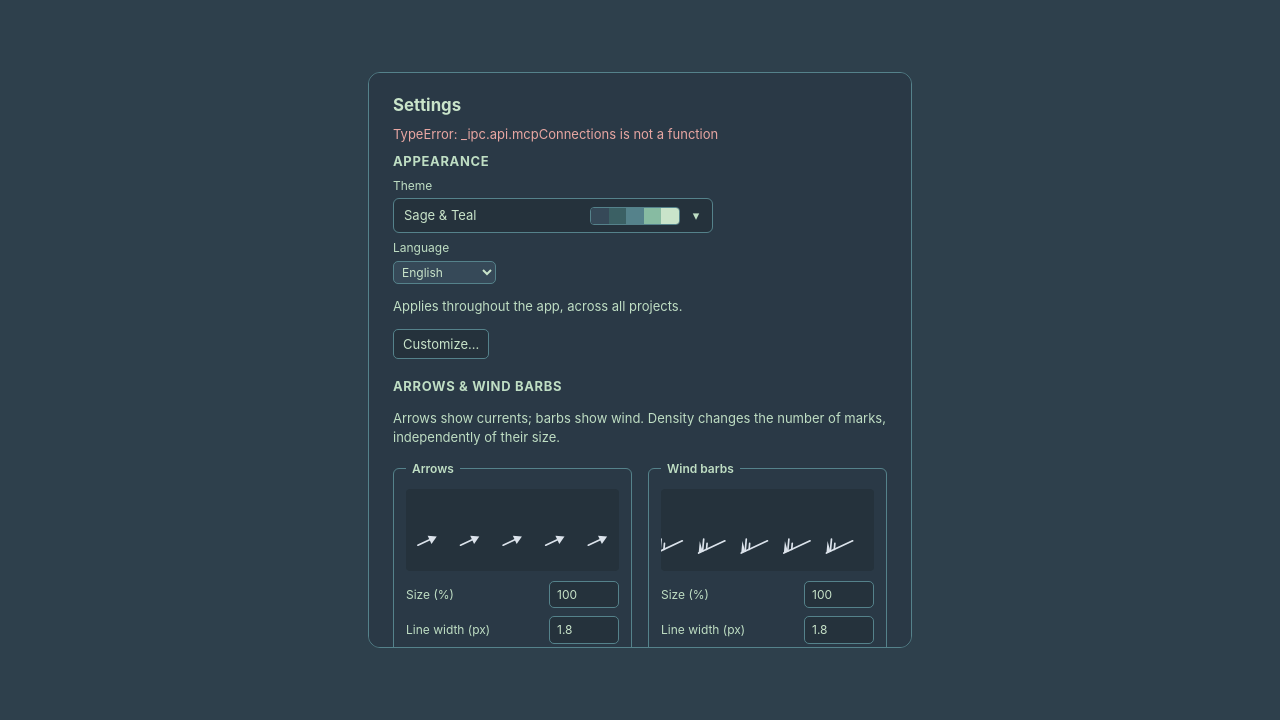
Test: shows a theme save failure without applying the unsaved choice
Click the dropdown with class "theme-trigger" at (440, 215), box [393,198,713,233]
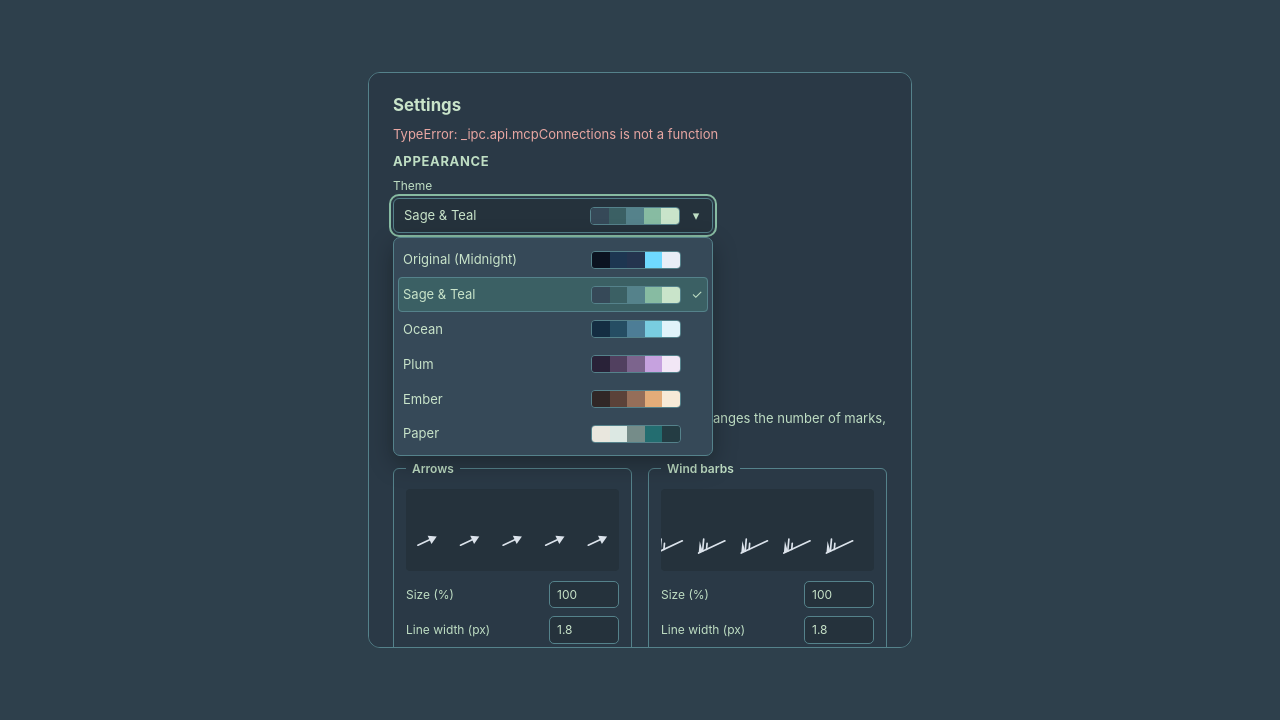
Click the option with class "theme-option" showing "Paper" at (421, 433), box [403,425,681,443]
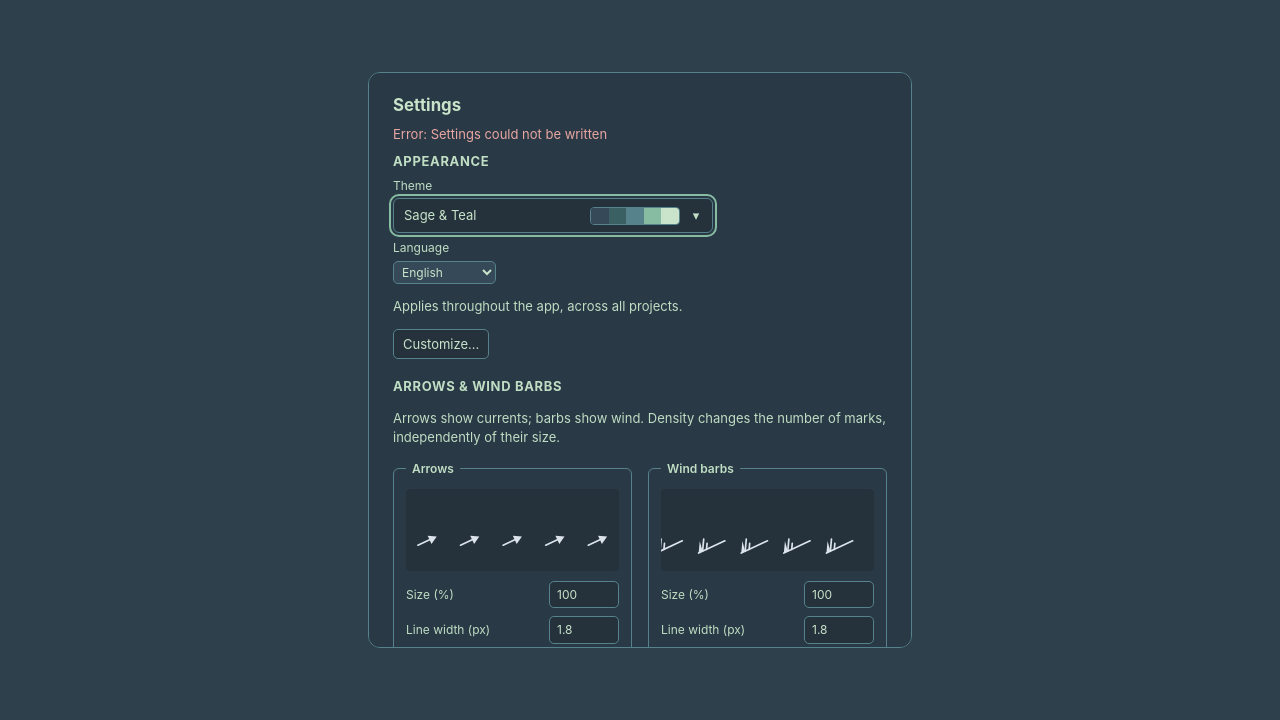
Check: the dropdown with class "theme-trigger" shows "Sage & Teal", box [393,198,713,233]
Check: the text with class "modal-error" shows "Settings could not be written", box [393,126,607,142]
